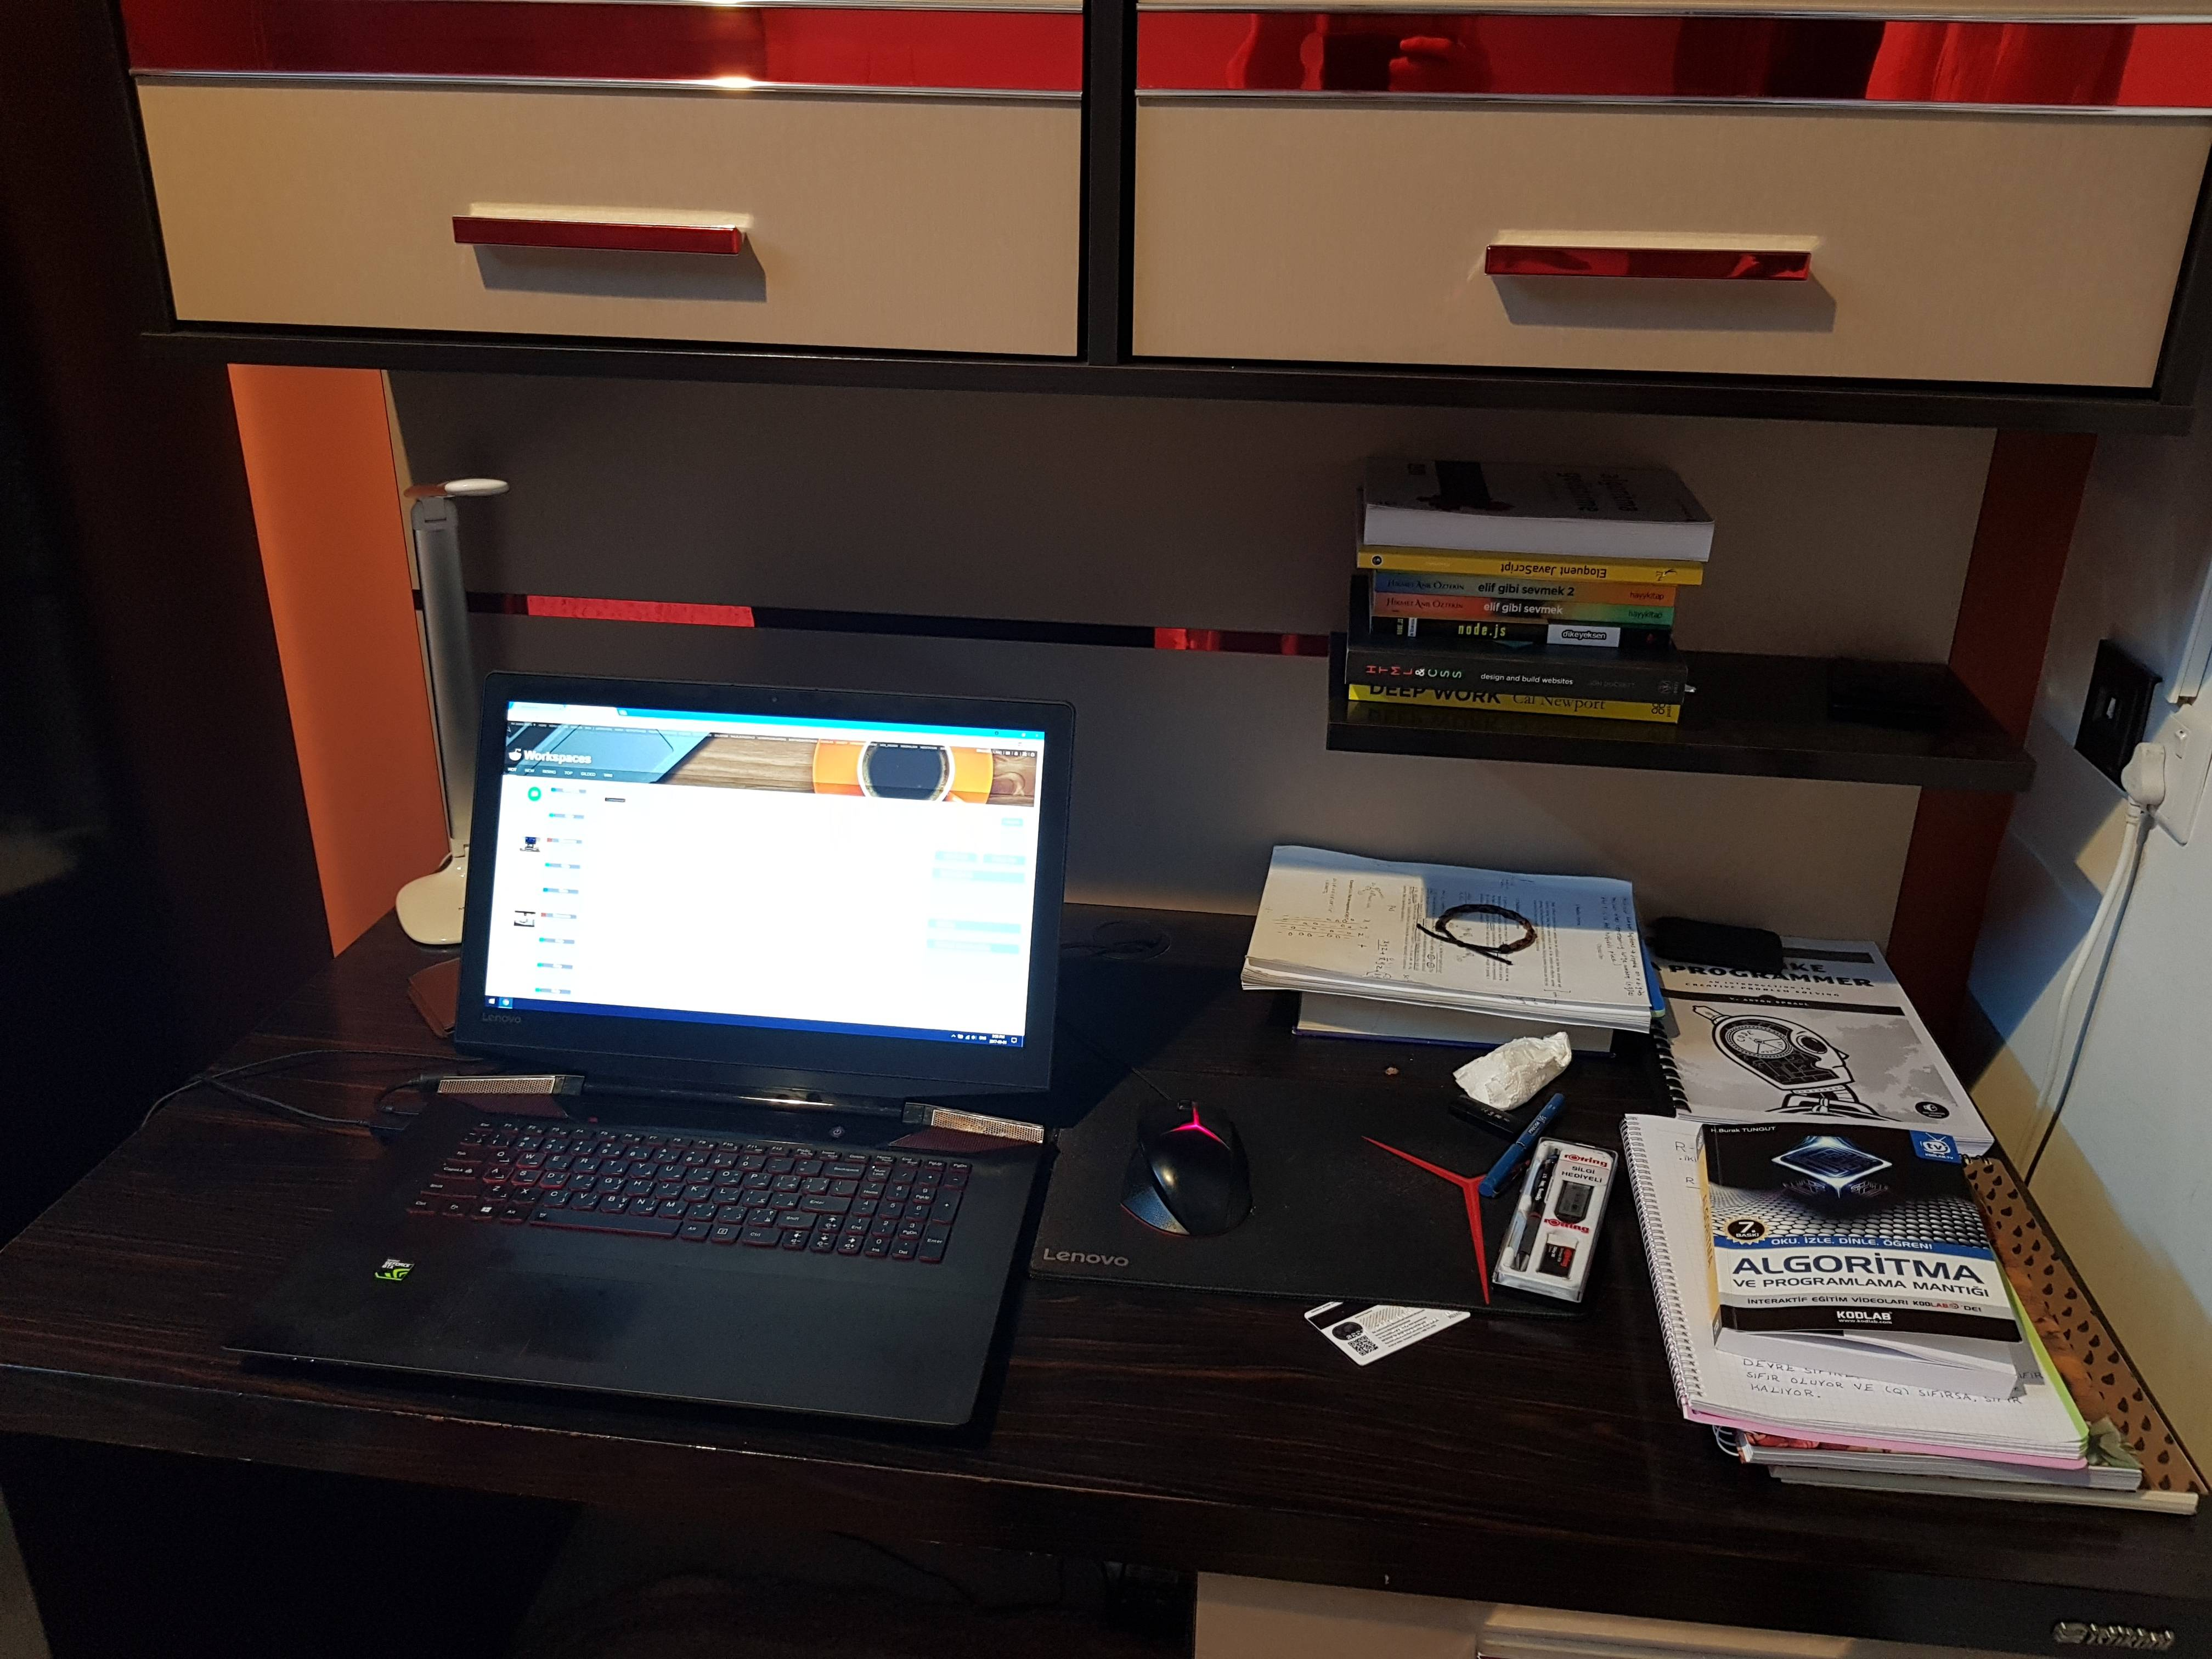Book: (1327, 462, 1726, 737)
Desk (Generic): (0, 688, 2156, 1622)
Lamp (Desk): (357, 471, 535, 918)
Laptop (Windows): (430, 671, 1127, 1417)
Monitor (Laptop): (481, 674, 1038, 1101)
Mouse (Generic): (1113, 1082, 1270, 1234)
Mousepad (Generic): (1069, 1044, 1559, 1314)
